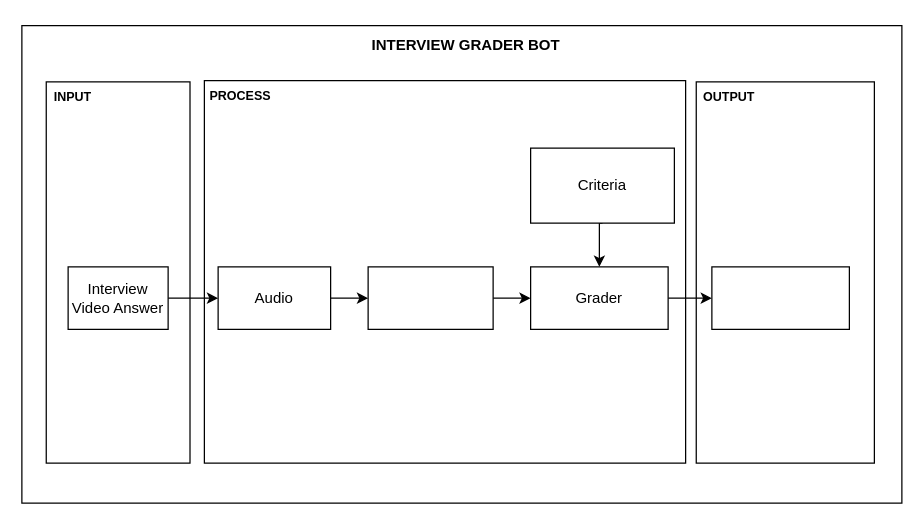
This 924x525 diagram has some shape labels left out. Here are the shapes that lost their labels. From the top down, the centre of each, then its label:
[430,297]: Text
[780,297]: Score
